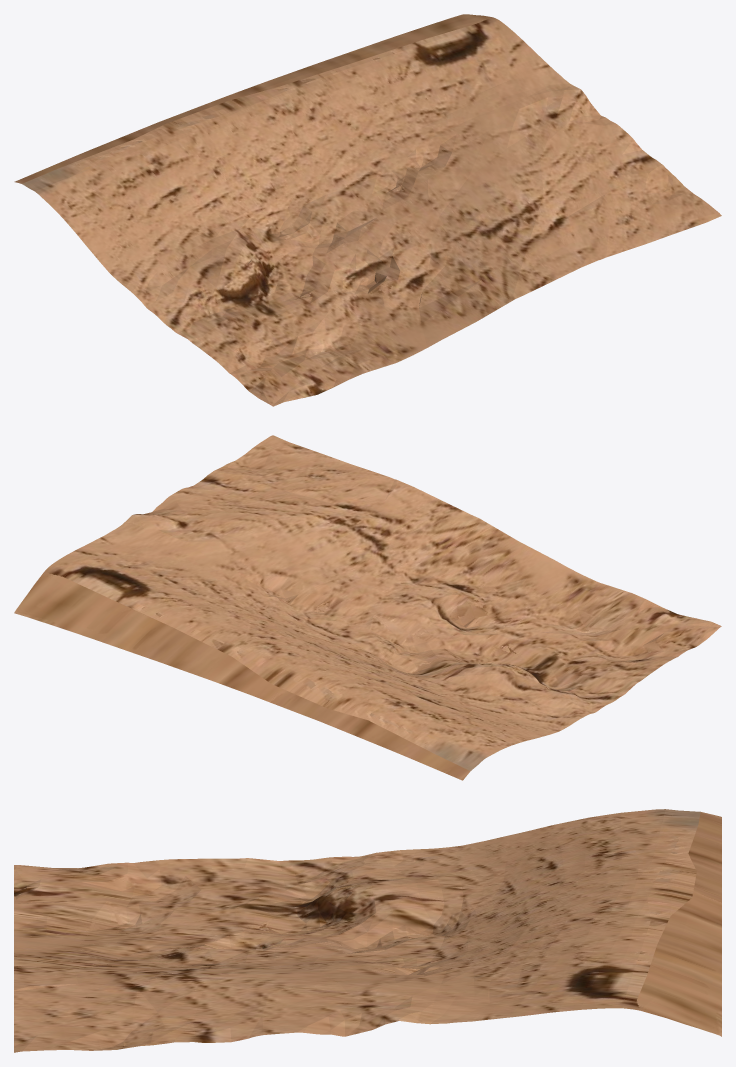
The picture shows the model from 3 angles, top to bottom: view 1: azimuth 30°, elevation 25°; view 2: azimuth 150°, elevation 25°; view 3: azimuth 270°, elevation 25°; orthographic projection. The views are drawn at different scales.
Bounding box in the file's own units: 1.04 × 0.2591 × 1.04.
Materials: 3 (3 with a texture image).
